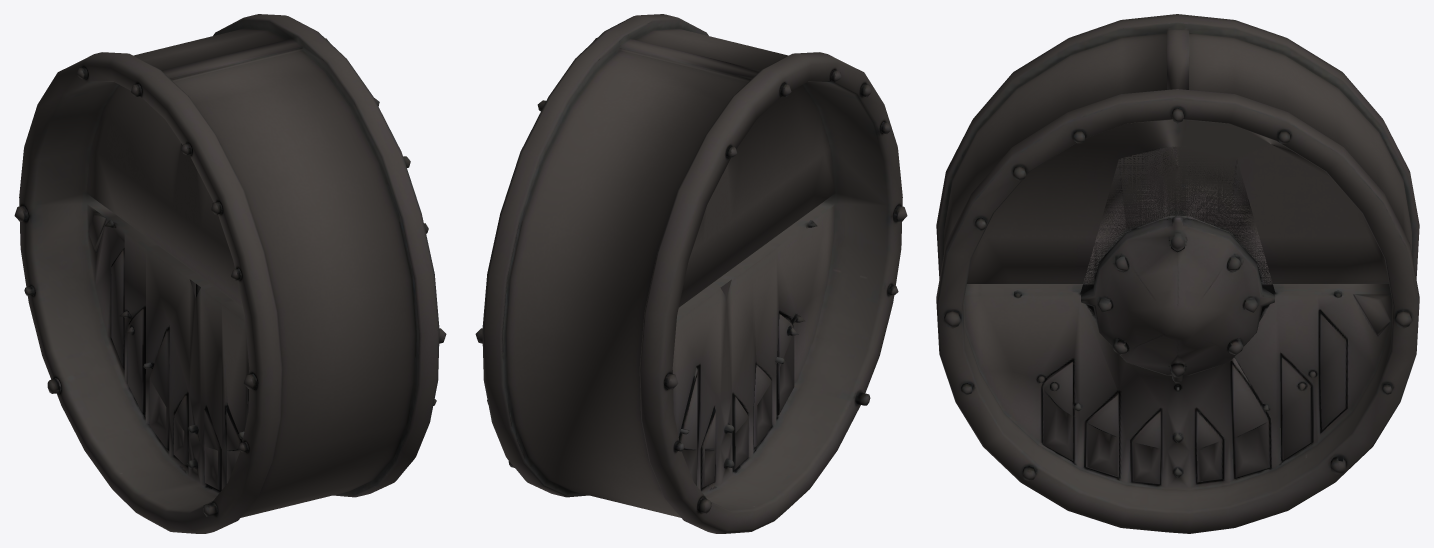
File: shield.glb
3 views of the same model, side by side, from view 1: azimuth 30°, elevation 25°; view 2: azimuth 150°, elevation 25°; view 3: azimuth 270°, elevation 25° (orthographic).
Parts seen in each view (by area): view 1: base_model_path; view 2: base_model_path; view 3: base_model_path.
Part boxes in pixels (left/top/right/bottom): base_model_path: left=14, top=14, right=446, bottom=533; base_model_path: left=475, top=14, right=907, bottom=533; base_model_path: left=936, top=14, right=1419, bottom=533.
Size of the model in its own units: 0.4872 by 0.9998 by 0.9998.
Materials: 1 (1 with a texture image).
